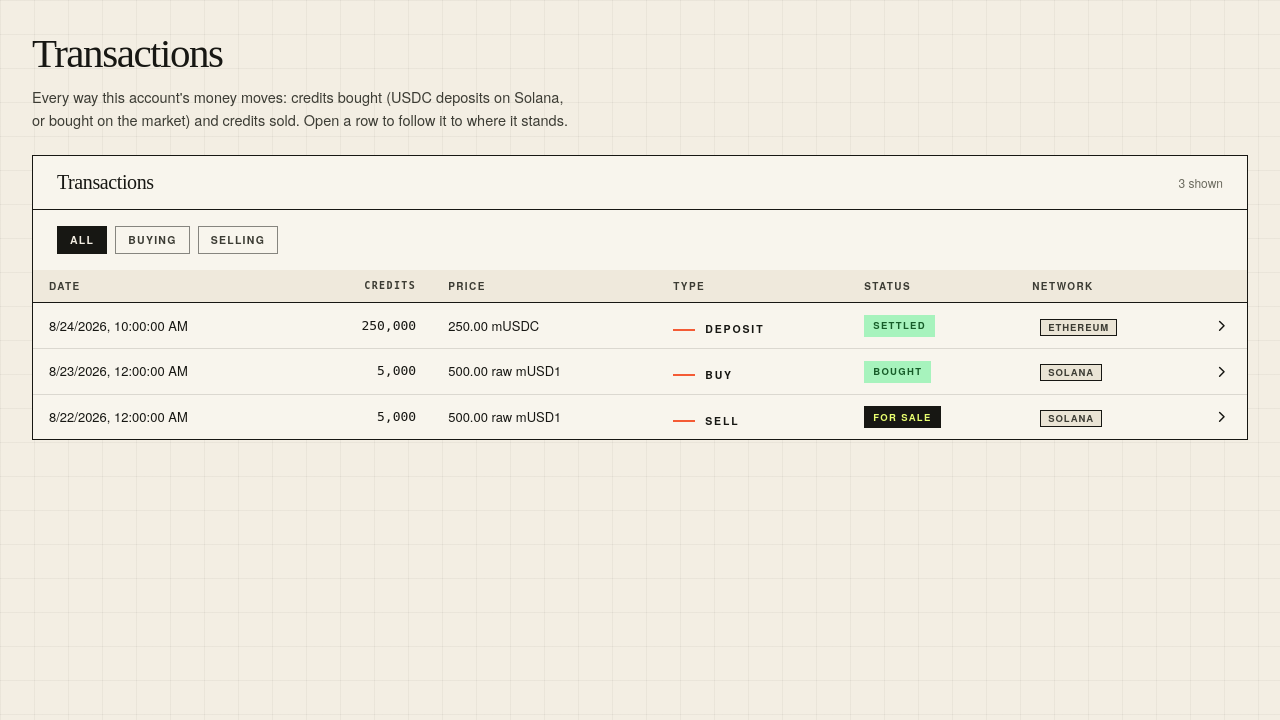
Test: PurchasesComponent › clicking Buying hides sells and Selling hides deposits + buys; counts follow
Click the button with class "txn-filter" showing "Buying" at (152, 240), box [115,226,190,254]
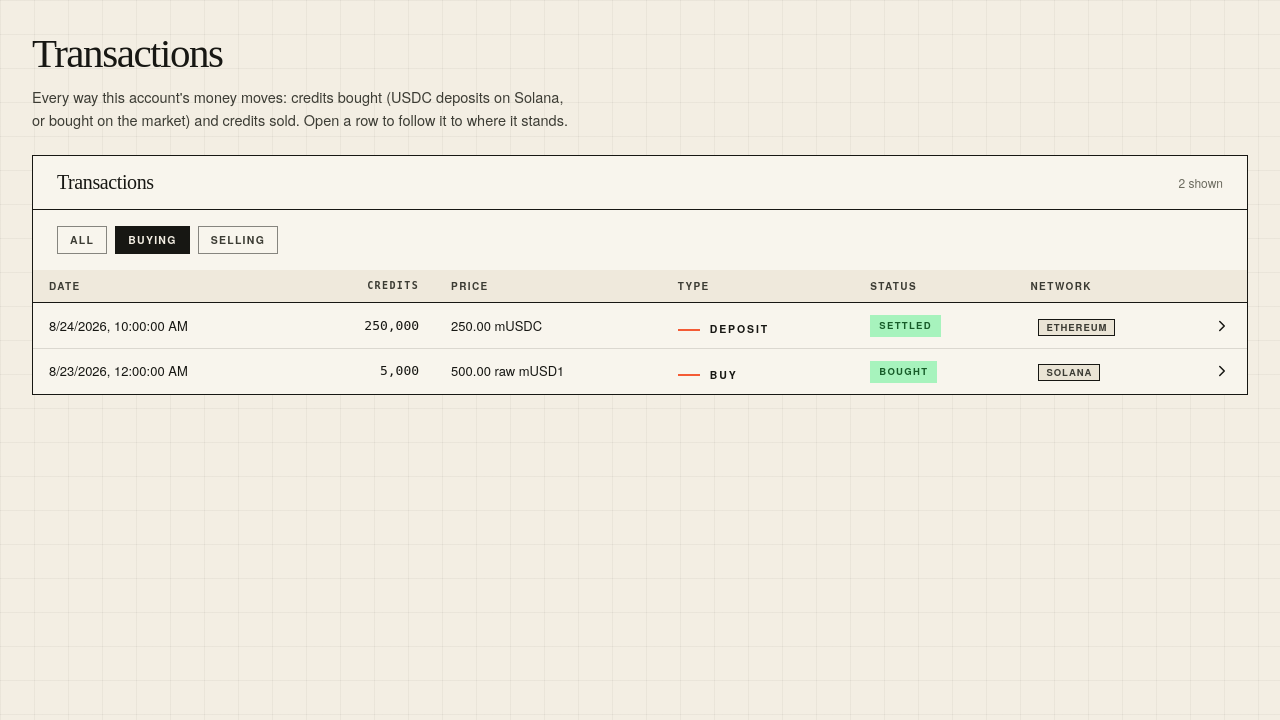
Result: the number of links is 2 at [33,303,1247,349]; [33,348,1247,394]
Click the button with class "txn-filter" showing "Selling" at (238, 240), box [198,226,278,254]
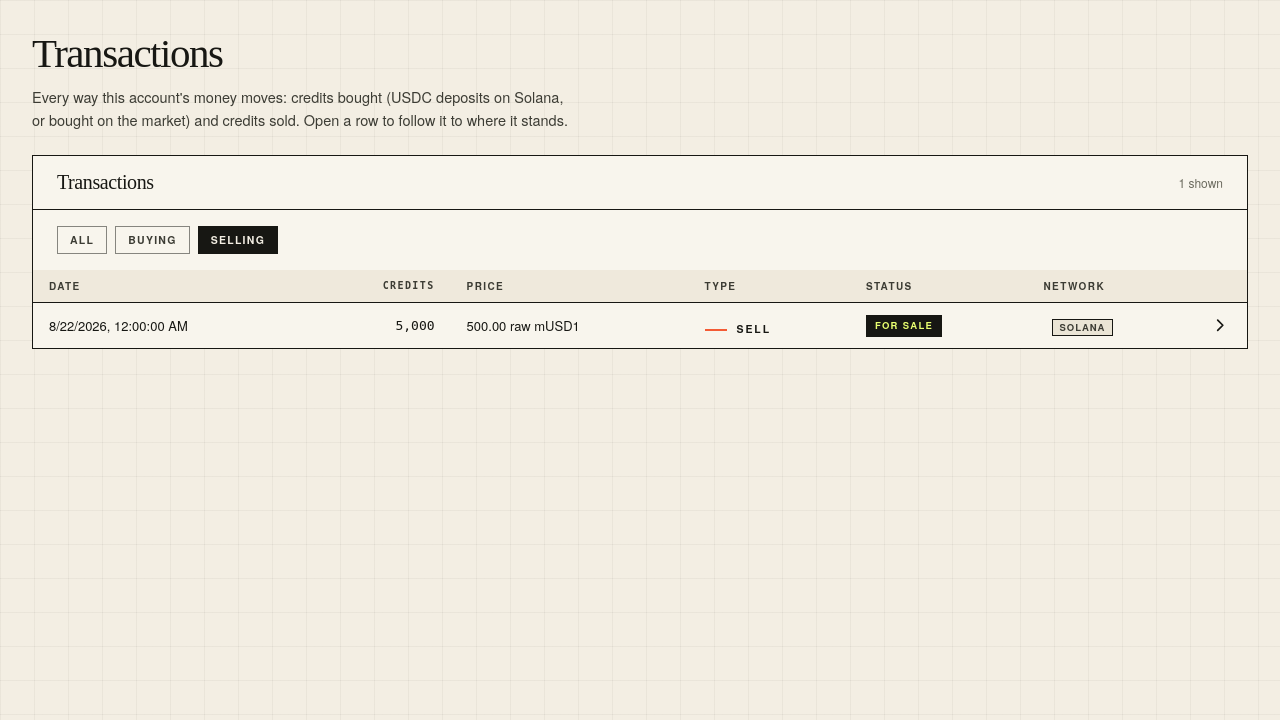
Result: the number of links is 1 at [33,303,1247,348]
Click the button with class "txn-filter" showing "All" at (82, 240), box [57,226,107,254]
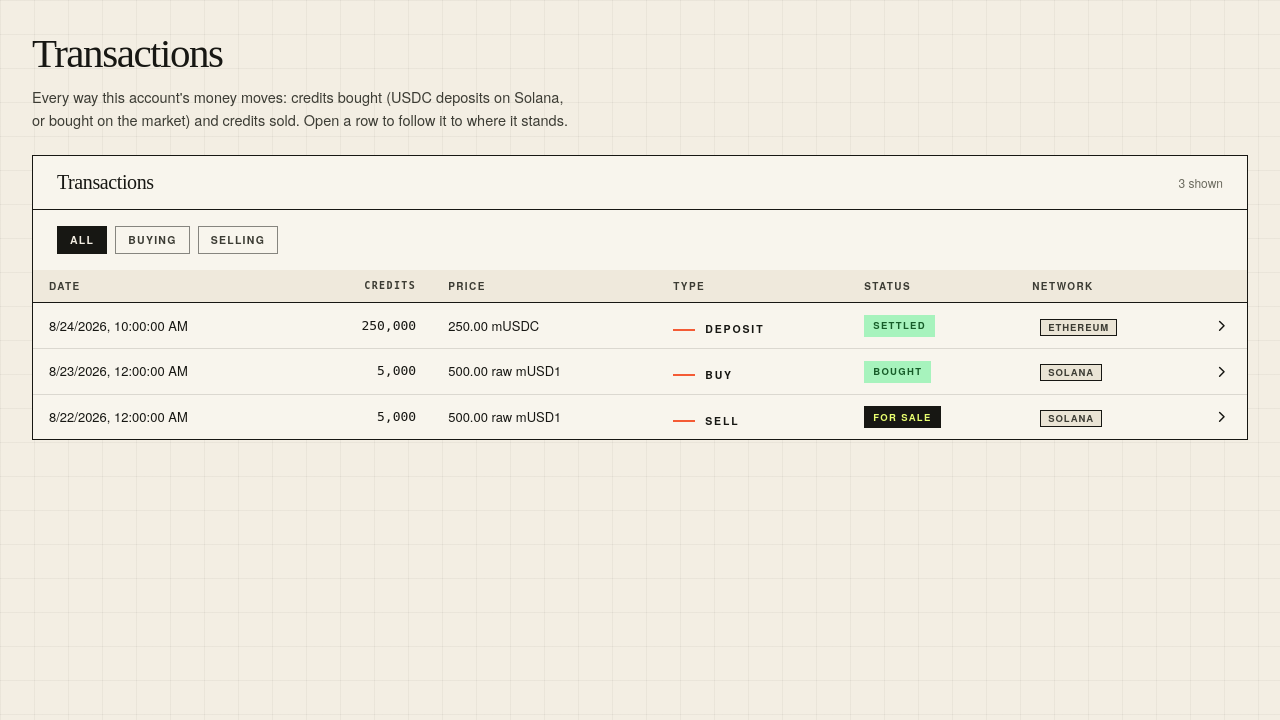
Result: the number of links is 3 at [33,303,1247,349]; [33,348,1247,394]; [33,394,1247,439]
